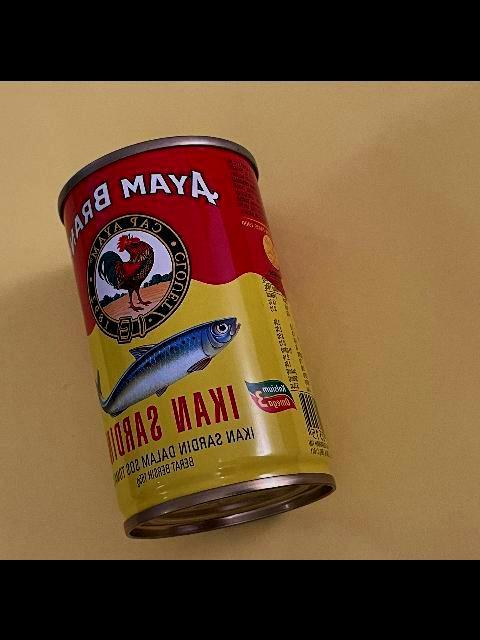foodcan: (55, 133, 339, 541)
